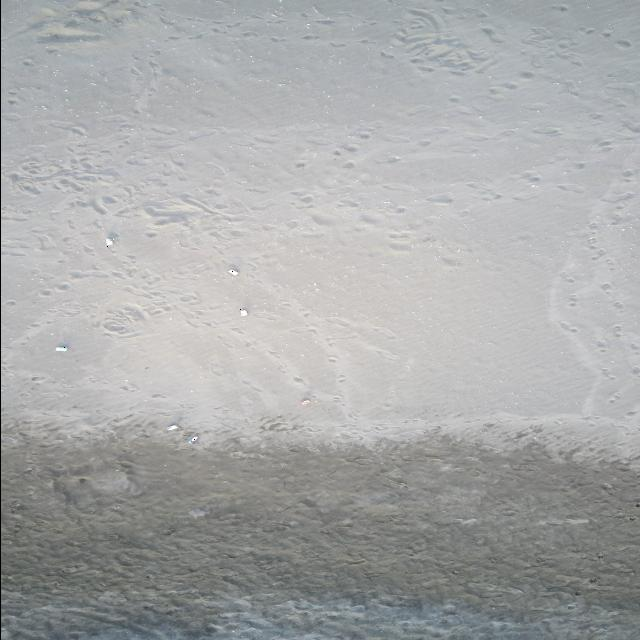Garbage: (188, 433, 198, 444), (104, 236, 114, 247), (227, 267, 238, 275), (167, 424, 179, 431), (55, 344, 67, 351), (300, 397, 310, 404), (240, 307, 247, 316)
